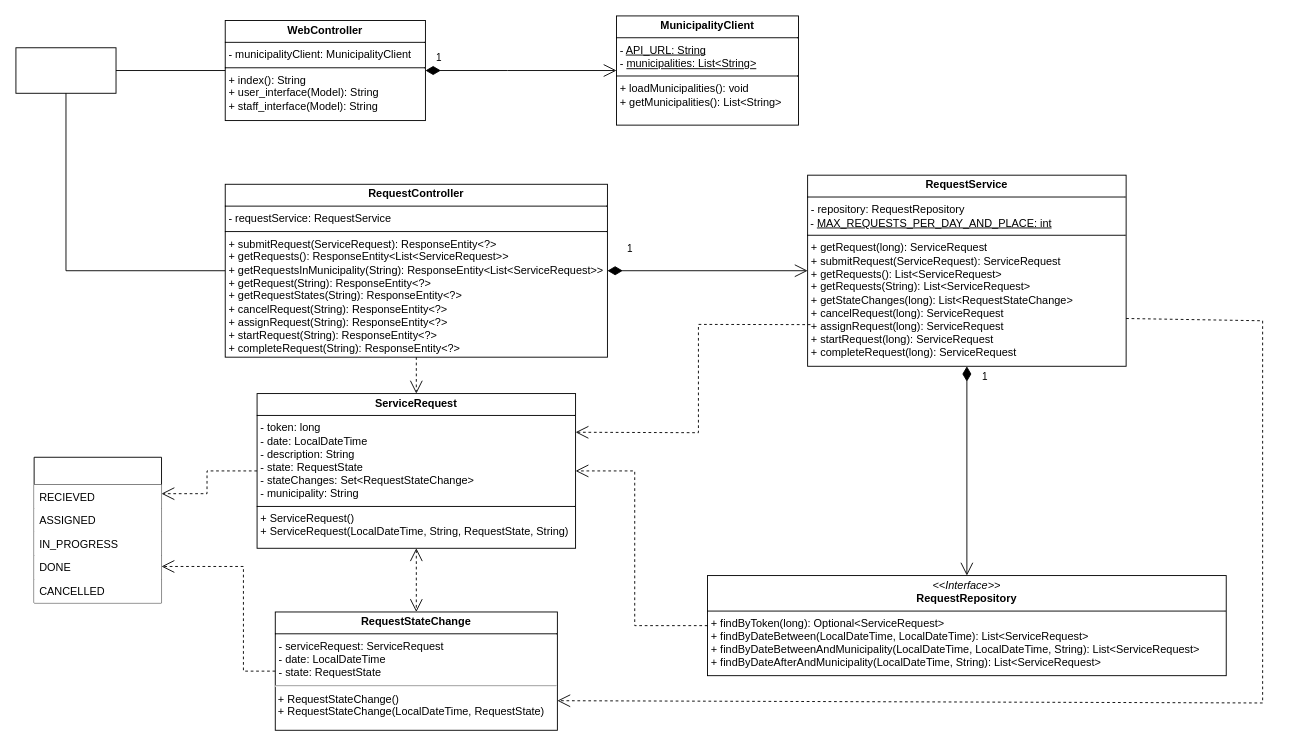
The diagram is 1291 pixels wide and 746 high, and some of its shapes have lost their labels. The shapes that lost their labels are listed below. From the top down, each one's box as (x1, y1, x2, y2) in pixels, then its label:
(15, 47, 116, 93): Web Interfaces
(33, 456, 162, 603): <<Enumeration>> RequestState
